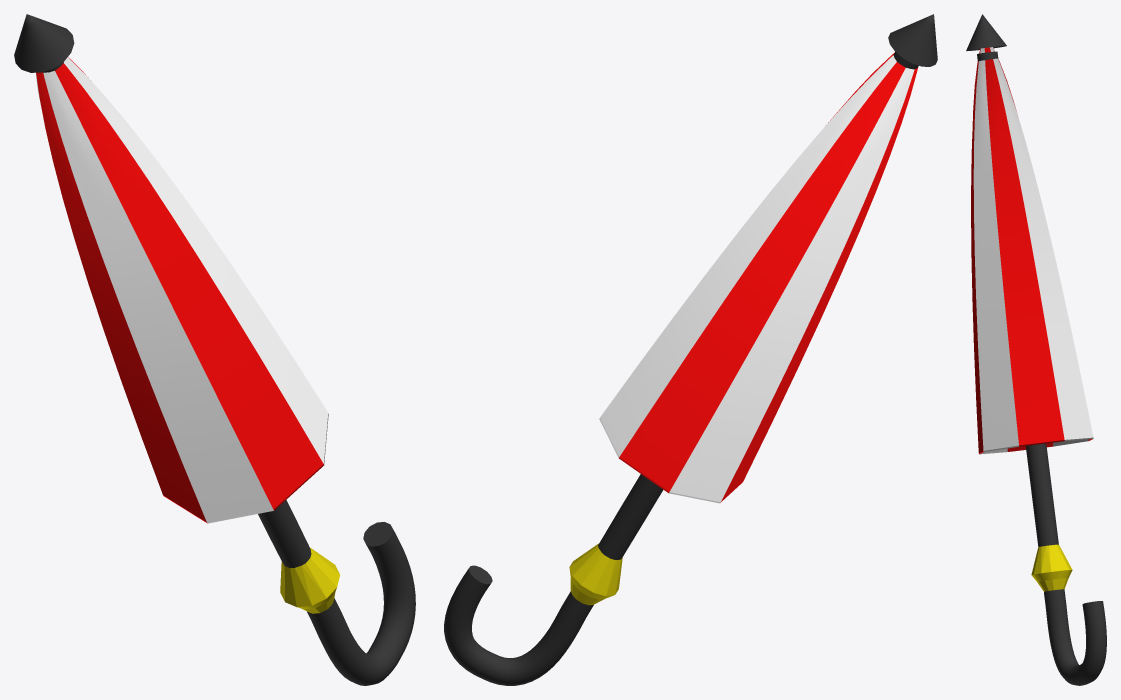
The model's file is Umbrella.fbx.
3 views of the same model, side by side, from view 1: azimuth 30°, elevation 25°; view 2: azimuth 150°, elevation 25°; view 3: azimuth 270°, elevation 25° (orthographic). The views are drawn at different scales.
Parts seen in each view (by area): view 1: Umbrella; view 2: Umbrella; view 3: Umbrella.
Part boxes in pixels (x1,y1,x2,y2): Umbrella: (14, 14, 415, 685); Umbrella: (444, 14, 937, 685); Umbrella: (966, 14, 1106, 685).
Size of the model in its own units: 126 by 207 by 49.42.
